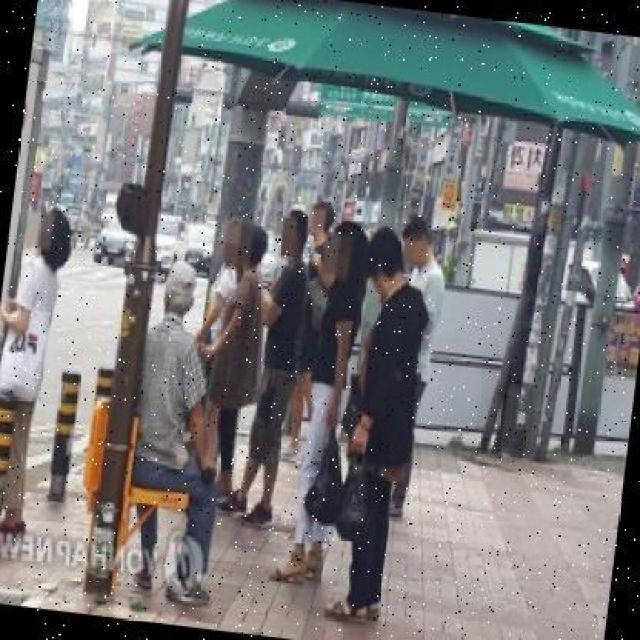Person: (116, 258, 247, 602), (324, 227, 428, 622), (270, 218, 373, 587), (223, 202, 312, 524), (0, 199, 75, 538), (190, 218, 272, 502), (373, 217, 450, 515)
